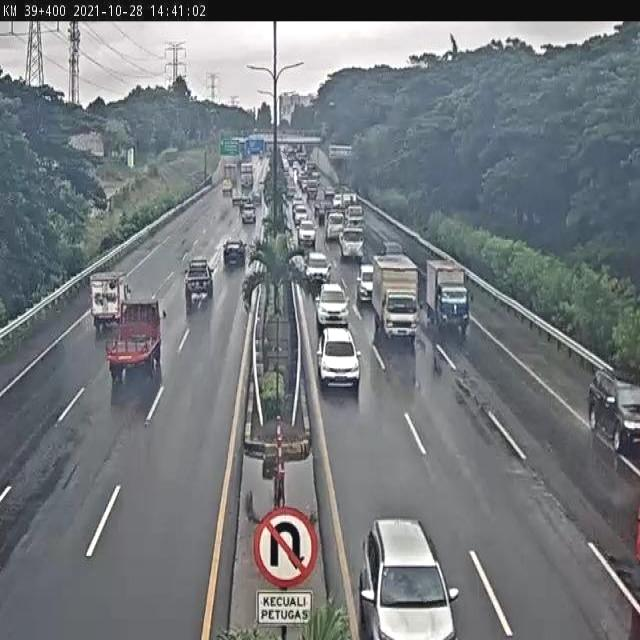Car: (359, 513, 460, 640), (316, 327, 361, 392), (314, 282, 350, 330), (304, 251, 332, 286), (357, 264, 374, 304), (222, 240, 247, 266), (297, 219, 317, 247)
Truck: (105, 302, 169, 383), (370, 251, 419, 344), (425, 260, 469, 340), (91, 270, 135, 328), (183, 256, 213, 298), (338, 226, 364, 260), (326, 212, 344, 243), (346, 204, 364, 227)
